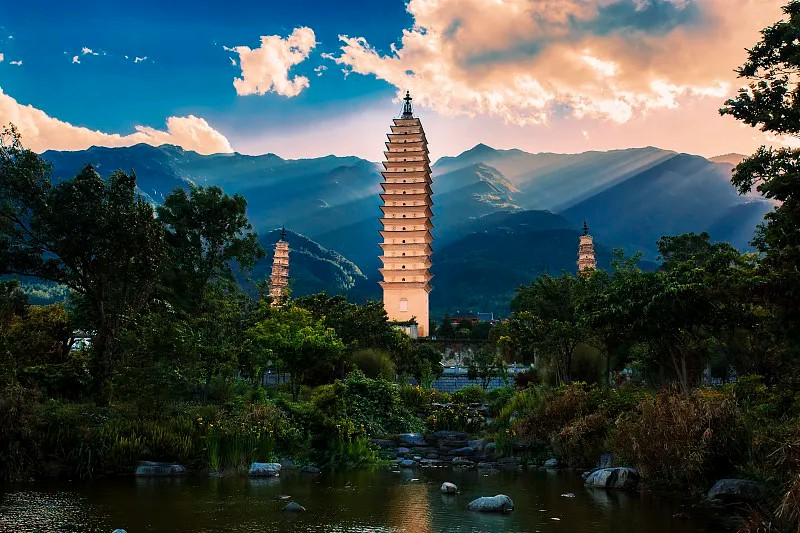ThreePagoda: (377, 88, 433, 337)
